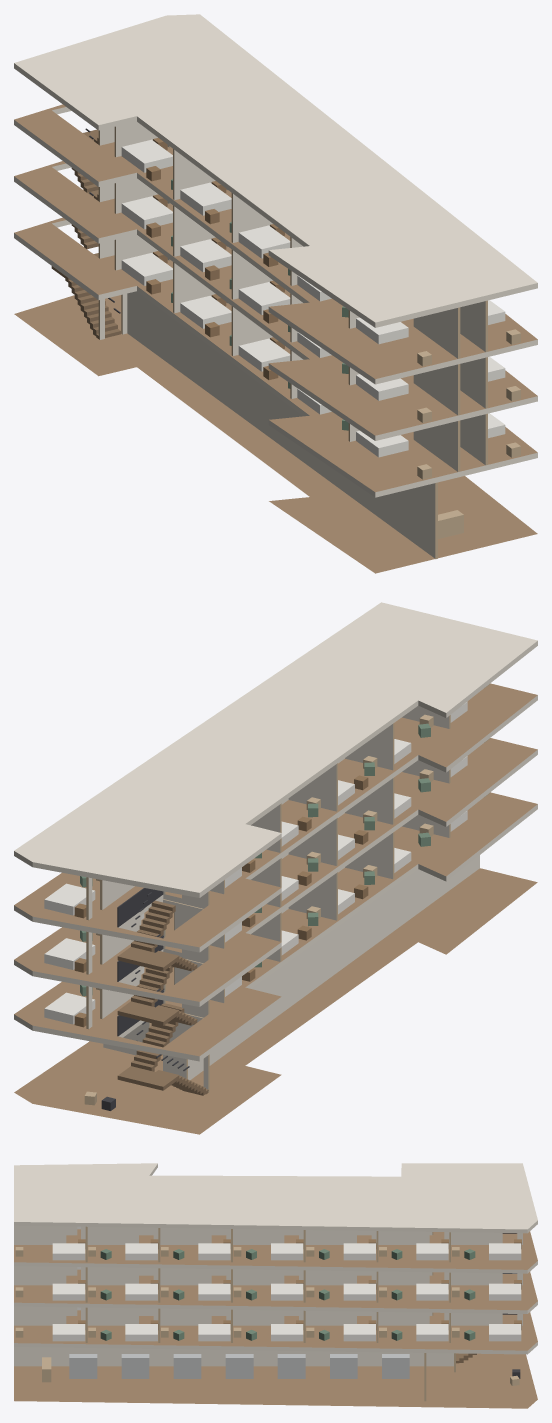
File: interior.glb
3 views of the same model, one above another, from view 1: azimuth 30°, elevation 25°; view 2: azimuth 150°, elevation 25°; view 3: azimuth 270°, elevation 25° (orthographic). The views are drawn at different scales.
Parts seen in each view (by area): view 1: slabs, partitions, coarse-s3, coarse-s1, coarse-s2, stair; view 2: slabs, partitions, stair, coarse-s2, coarse-s1, coarse-s3; view 3: slabs, partitions, coarse-s1, coarse-s2, coarse-s3, coarse-s0.
Part boxes in pixels (bbox=[...]): slabs: bbox=[14, 14, 537, 573]; partitions: bbox=[98, 121, 487, 559]; coarse-s3: bbox=[121, 137, 520, 366]; coarse-s1: bbox=[121, 251, 520, 479]; coarse-s2: bbox=[121, 194, 520, 422]; stair: bbox=[51, 128, 120, 339]; slabs: bbox=[14, 602, 537, 1134]; partitions: bbox=[86, 705, 479, 1092]; stair: bbox=[117, 888, 208, 1095]; coarse-s2: bbox=[44, 738, 490, 972]; coarse-s1: bbox=[44, 792, 490, 1027]; coarse-s3: bbox=[44, 684, 489, 918]; slabs: bbox=[14, 1163, 537, 1408]; partitions: bbox=[14, 1225, 522, 1401]; coarse-s1: bbox=[15, 1307, 521, 1341]; coarse-s2: bbox=[15, 1267, 521, 1300]; coarse-s3: bbox=[15, 1226, 521, 1260]; coarse-s0: bbox=[42, 1354, 520, 1385].
Bounding box in the file's own units: 9.63 × 12.17 × 32.19.
